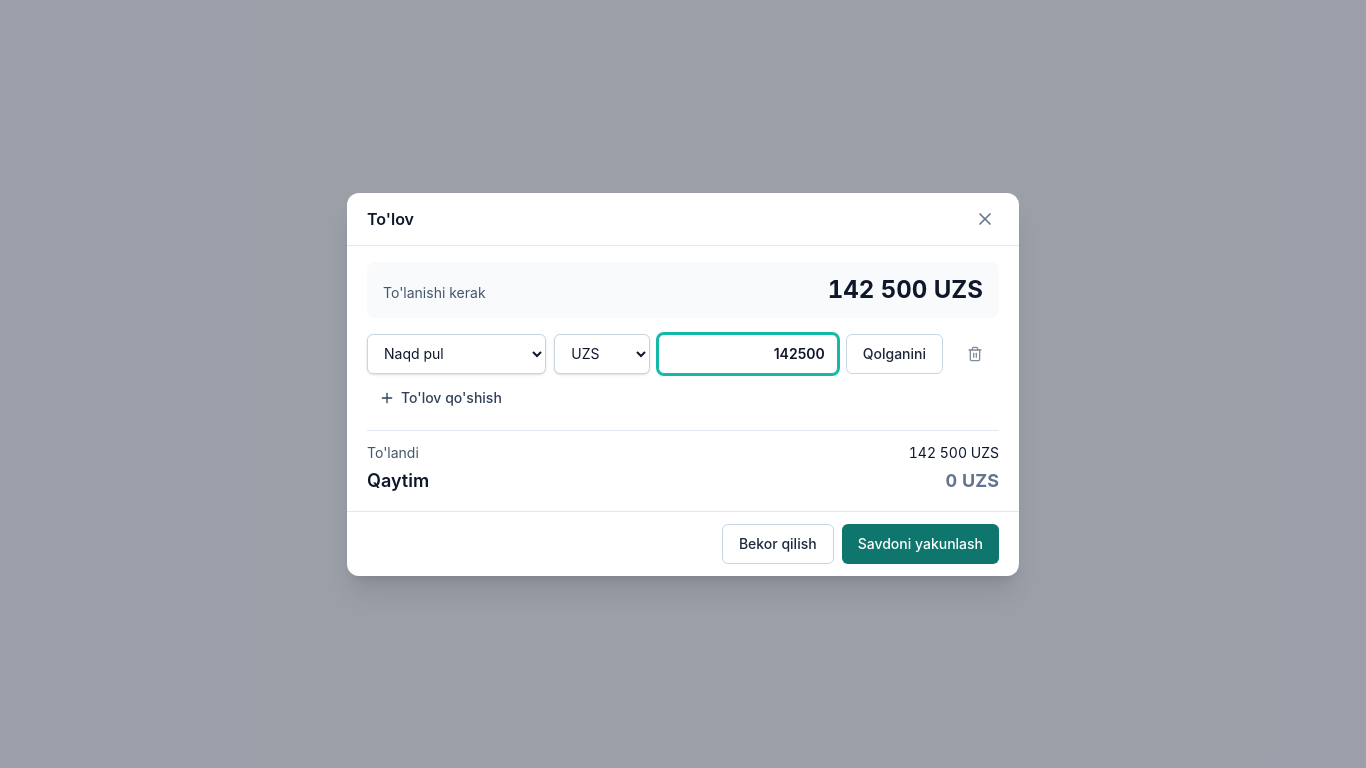
Scenario: to'lov oynasi › karta bilan ortiqcha to'lab bo'lmaydi; yetishmasa tugma yopiq
Select "Karta" in the dropdown with test id "pay-method-1" at coordinates (457, 354), box left=367, top=334, right=546, bottom=374
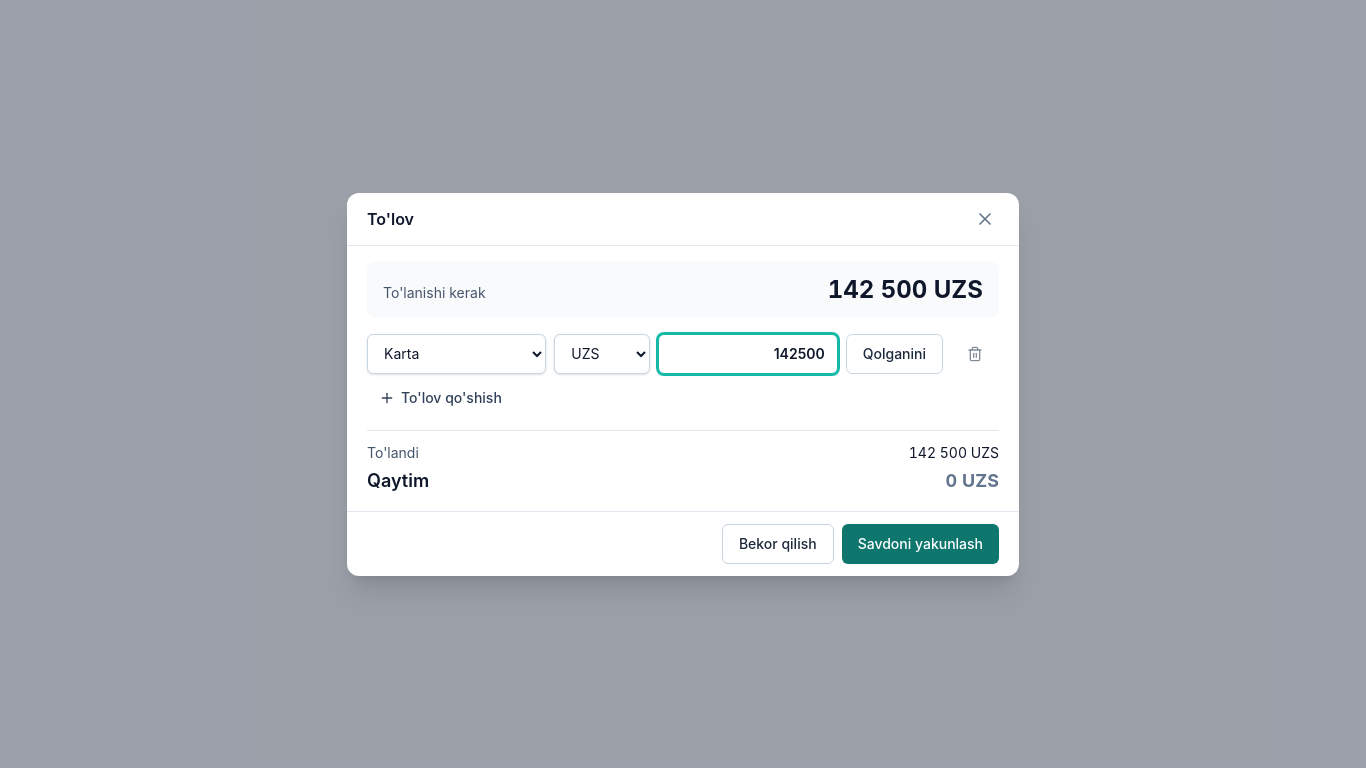
Replace the text in the field with test id "pay-amount-1" with "150000" at coordinates (748, 354), box left=658, top=334, right=838, bottom=374
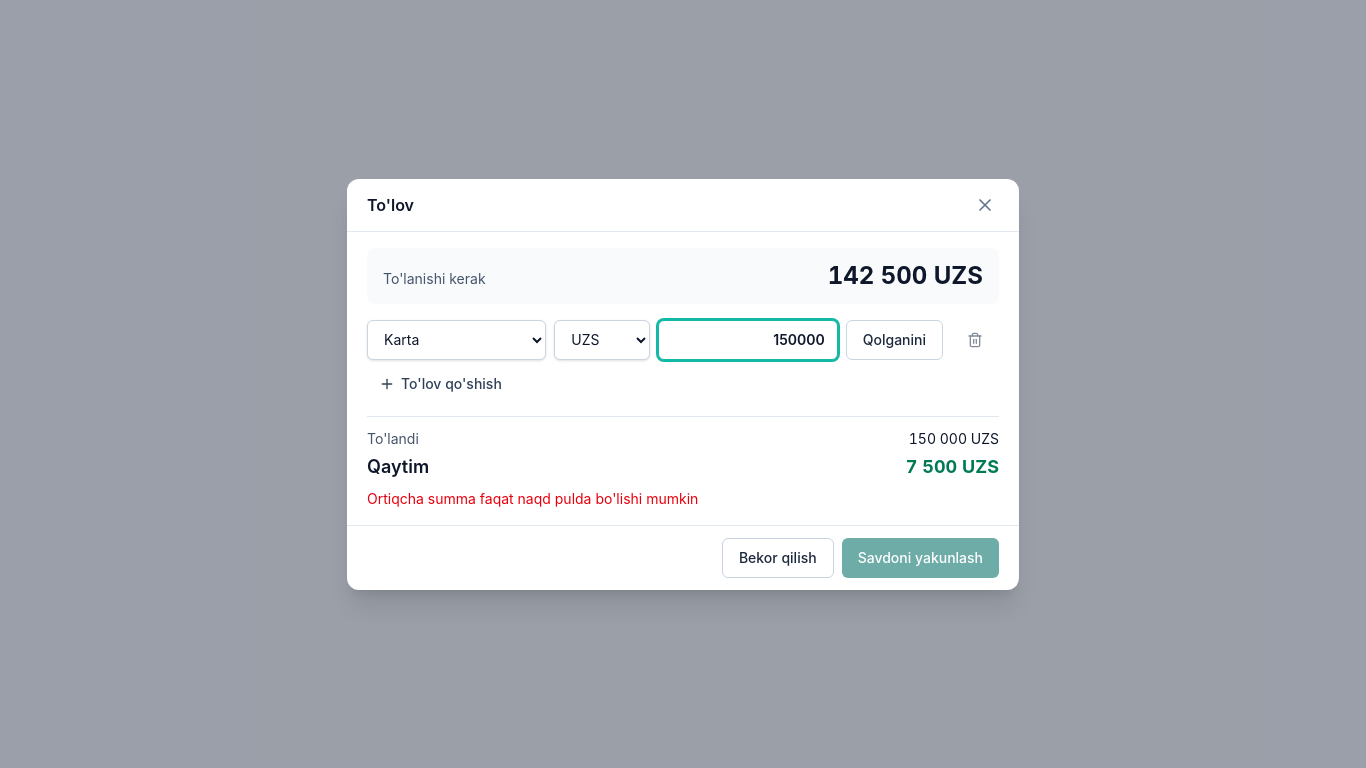
Result: the button with test id "pay-confirm" is disabled at left=842, top=538, right=999, bottom=578
Replace the text in the field with test id "pay-amount-1" with "100000" at coordinates (748, 340), box left=658, top=320, right=838, bottom=360
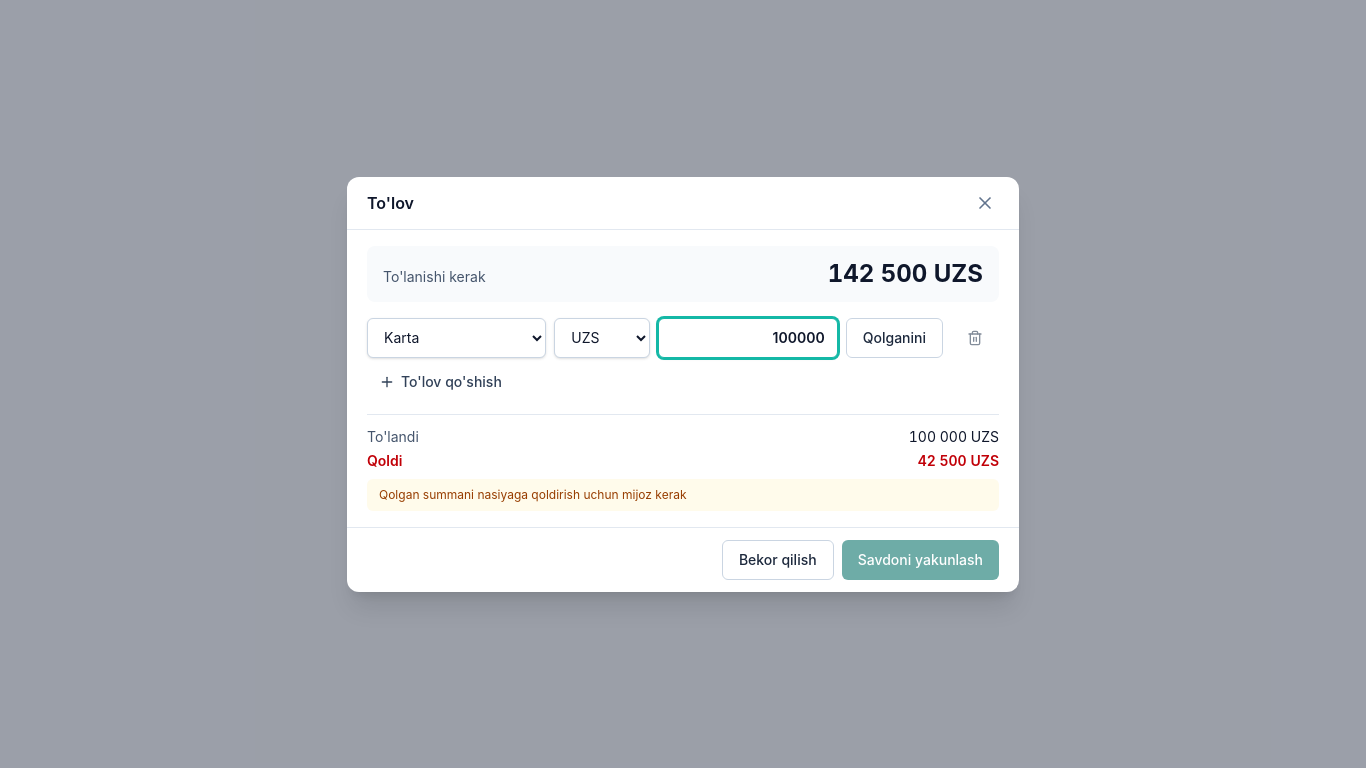
Result: the button with test id "pay-confirm" is disabled at left=842, top=540, right=999, bottom=580
Result: the text with test id "pay-remaining" reads "42 500 UZS" at left=918, top=452, right=999, bottom=468
